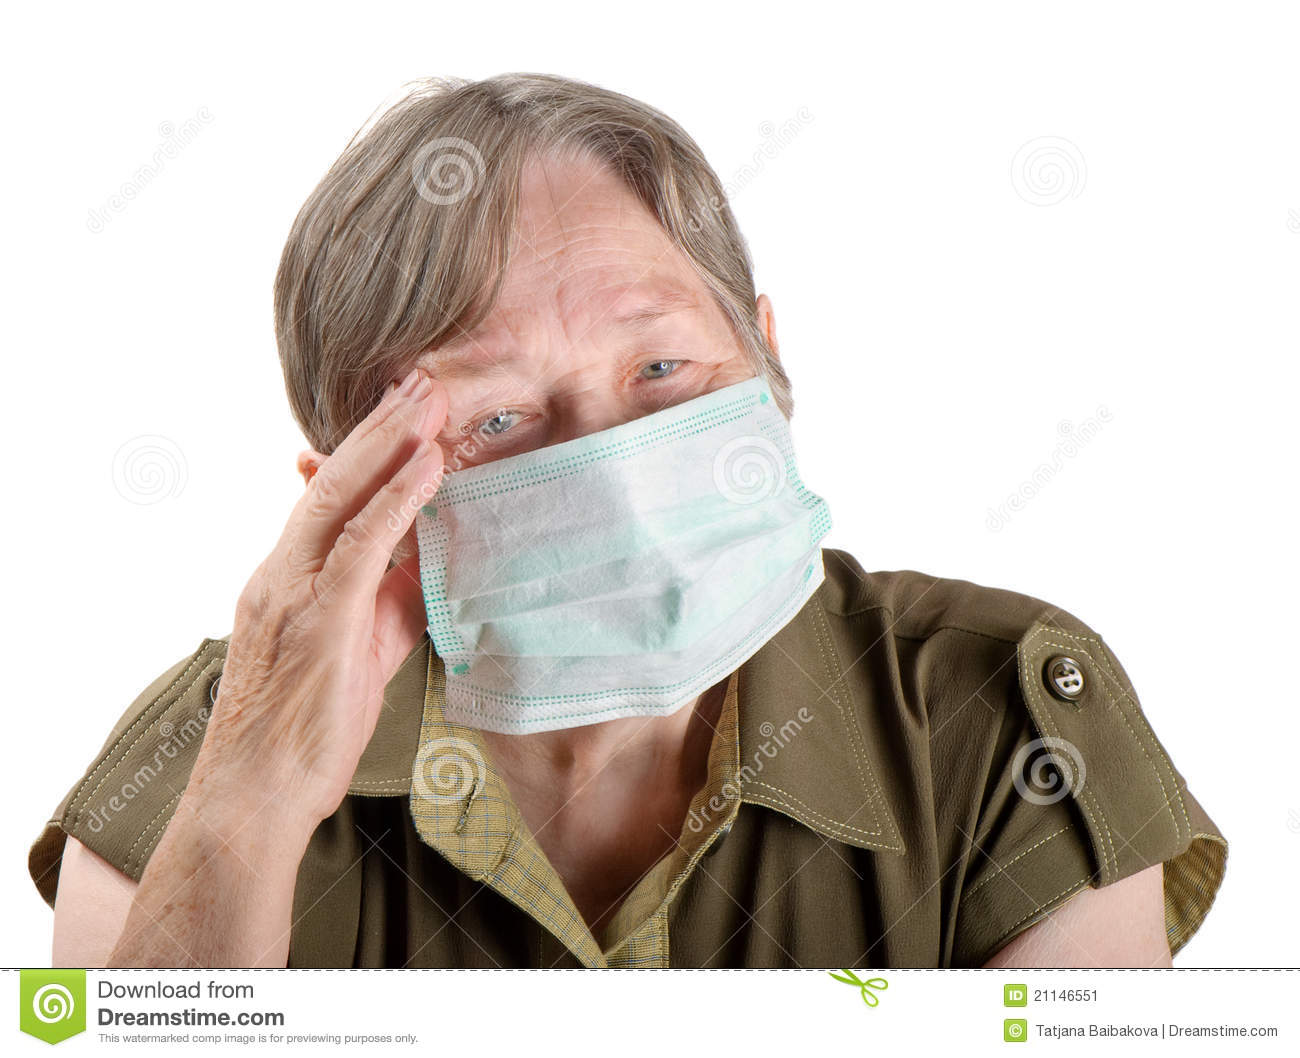mask: (418, 385, 830, 734)
